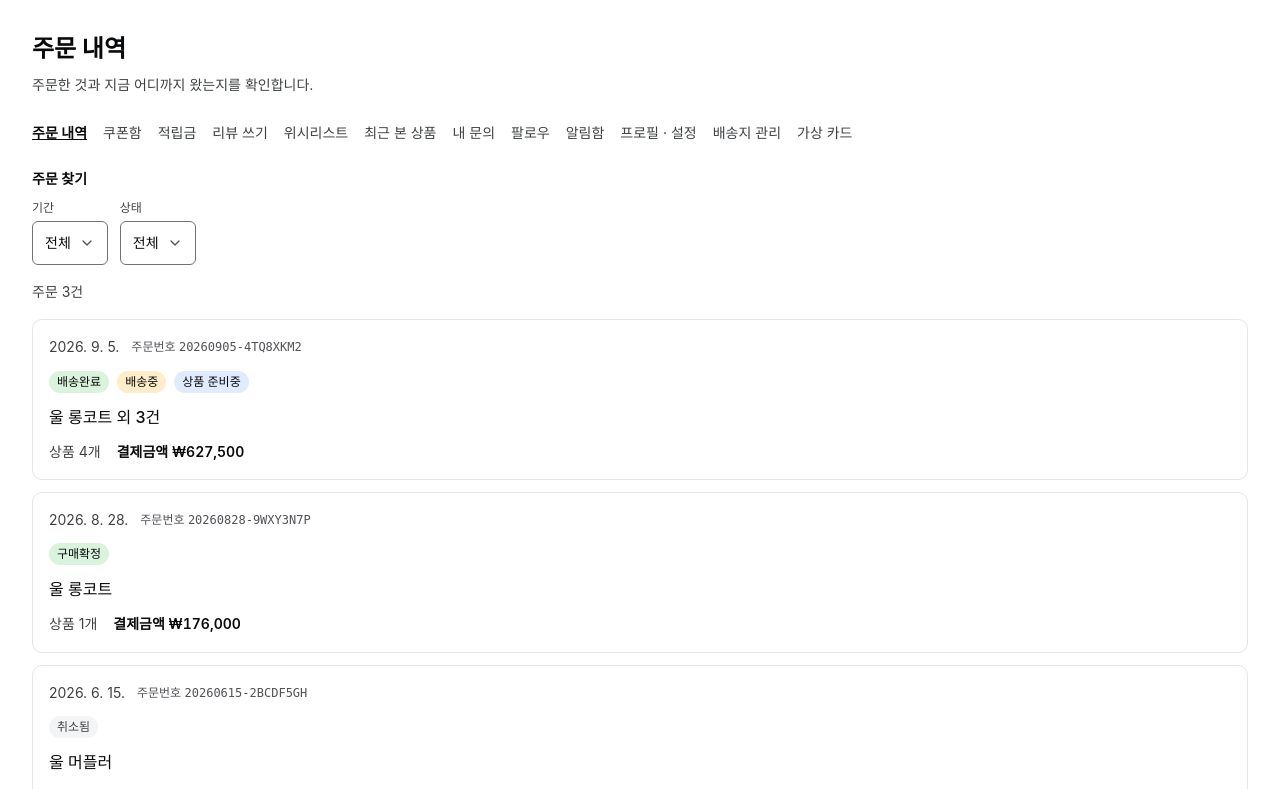
it: 기간·상태 필터 (서버가 거른다) › 조건에 맞는 것이 없으면 남은 장도 없다
Expected: the heading "주문 내역" is shown, [32,34,126,63]
What coordinates should you click on to do the following:
click the dropdown named "상태"
I would click on:
 (158, 243)
Its box is [120,221,196,265].
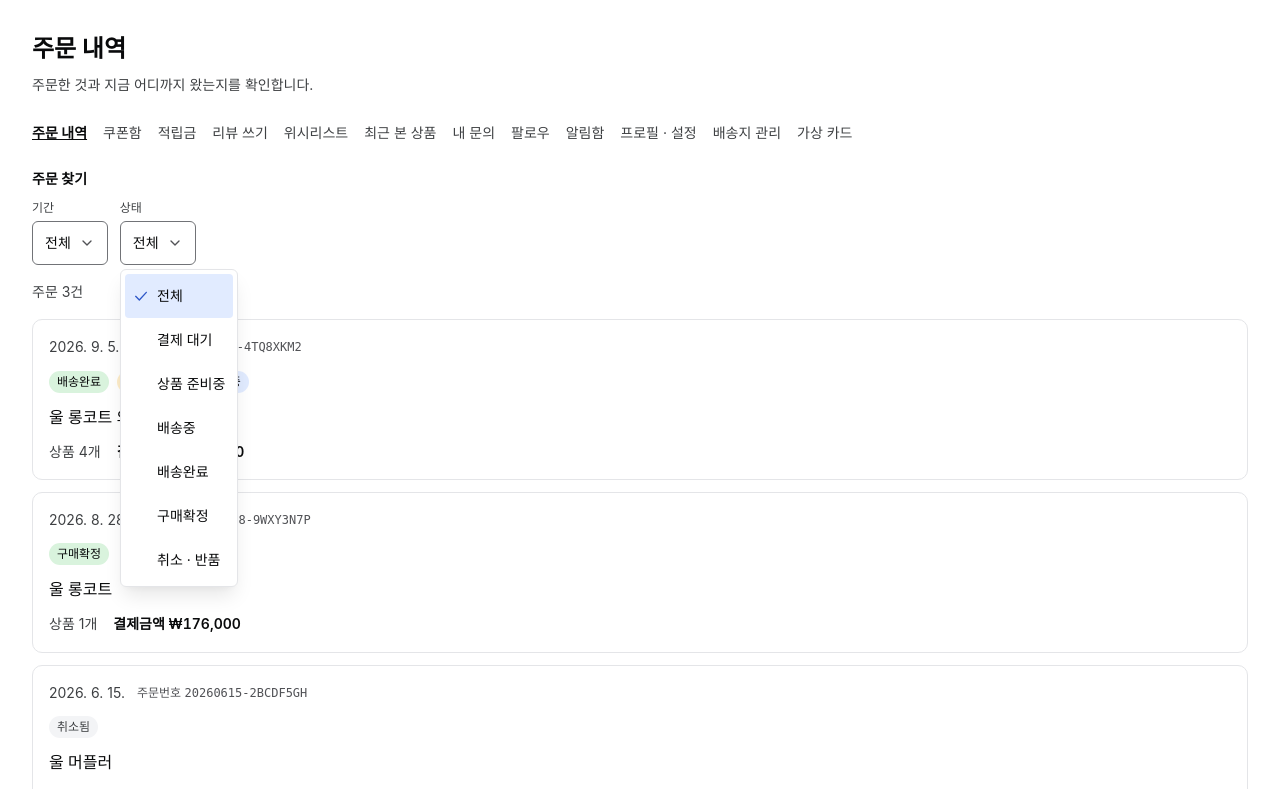
What coordinates should you click on to do the following:
click the option "결제 대기"
I would click on:
 (185, 339)
Its box is [157,331,212,348].
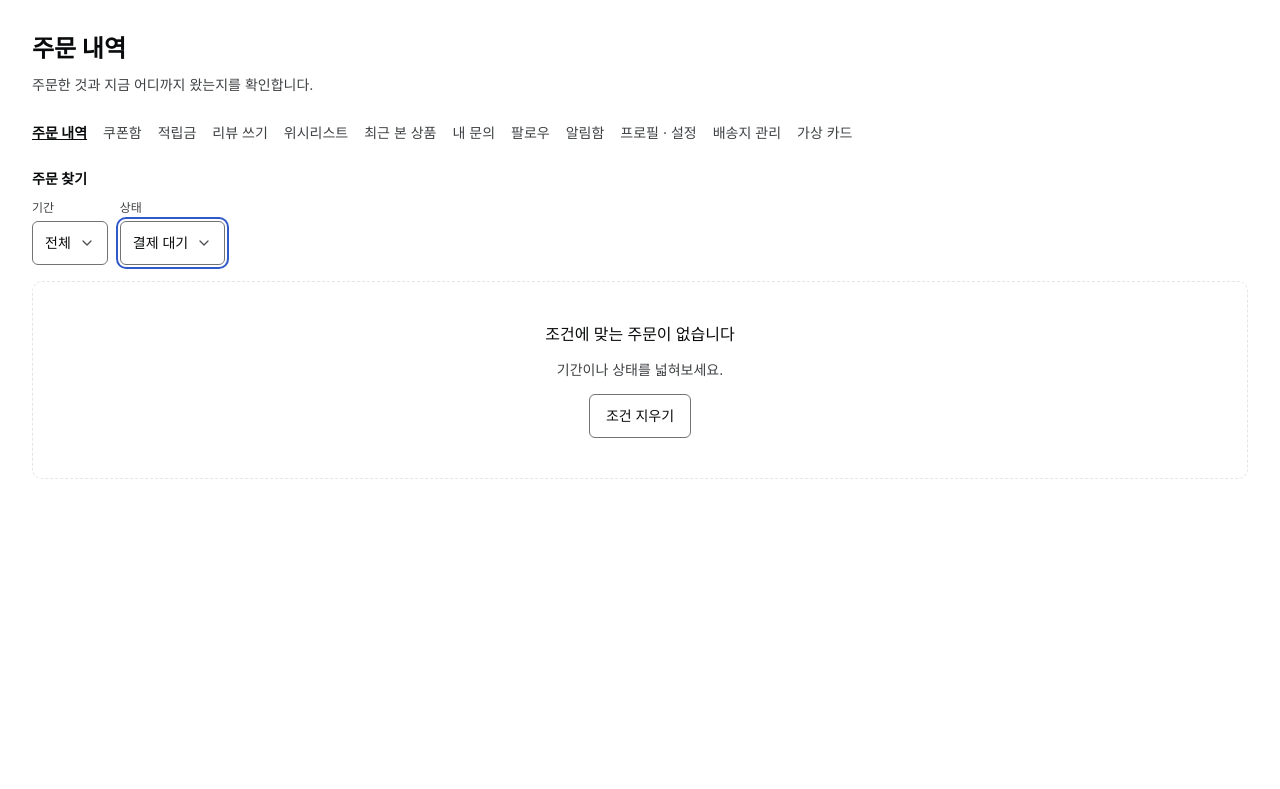
Expected: the text "조건에 맞는 주문이 없습니다" is shown, [545,322,735,347]
